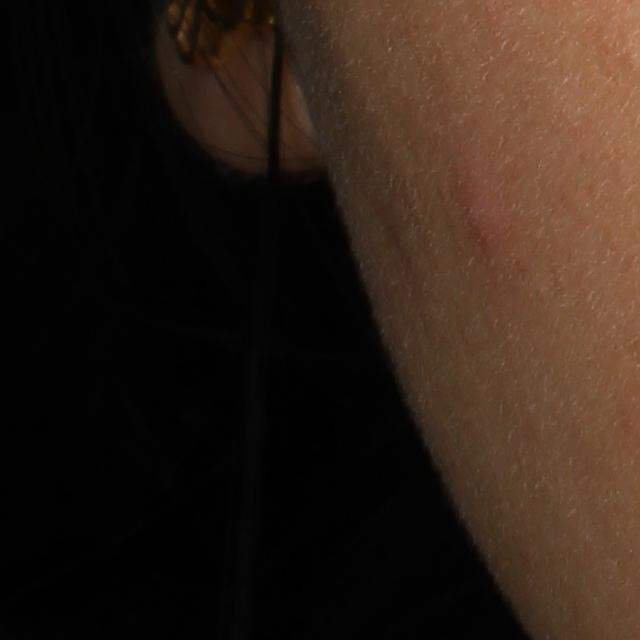papule: (452, 162, 509, 258)
